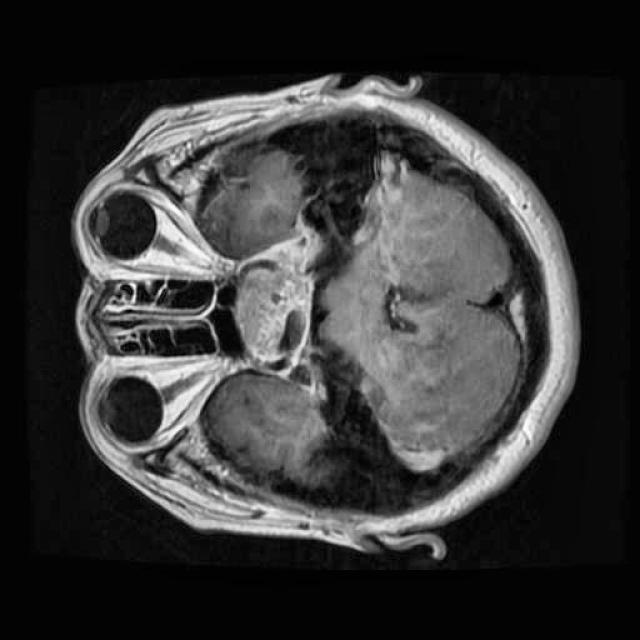Tumor: (226, 246, 329, 379)
